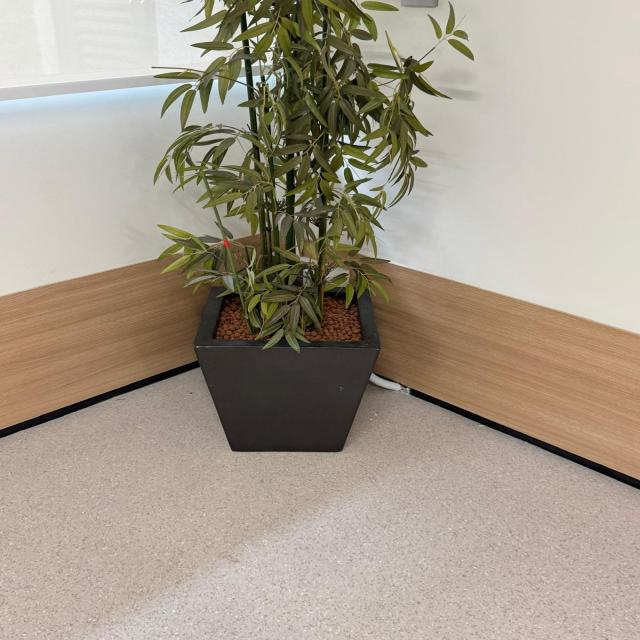Pot: (195, 283, 380, 452)
